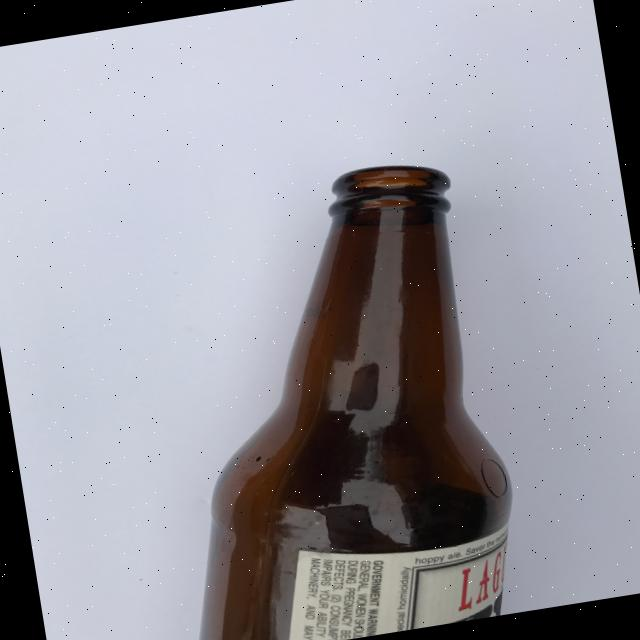glass: (124, 152, 533, 640)
